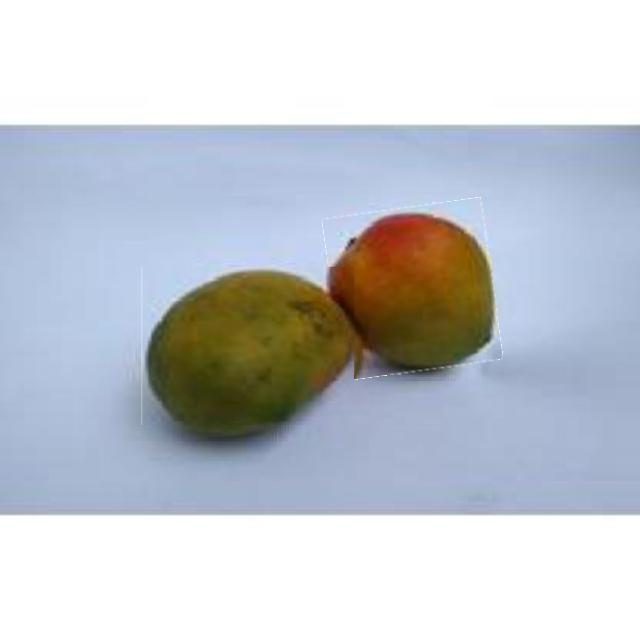mango: (141, 267, 354, 425), (327, 202, 498, 375)
